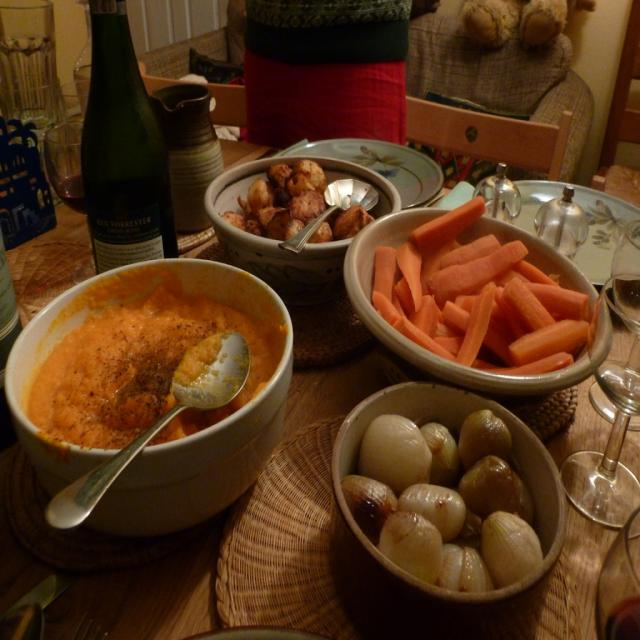carrot: (333, 200, 575, 402)
